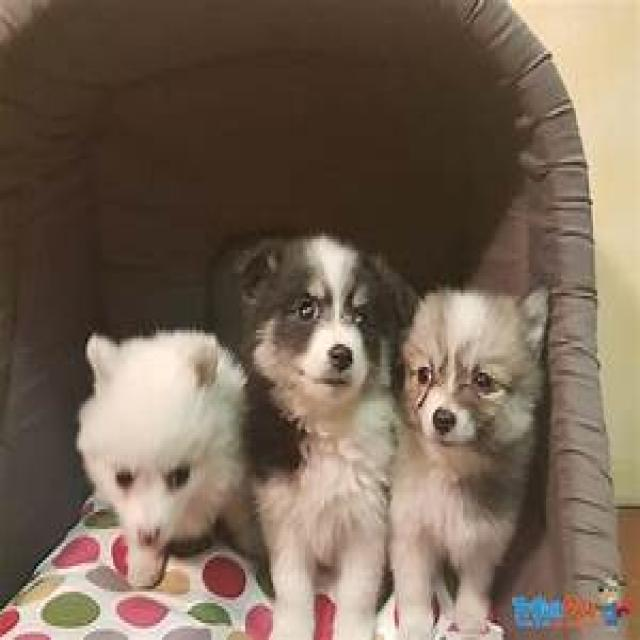dog: (207, 233, 442, 640), (388, 287, 550, 640), (75, 333, 269, 589)
